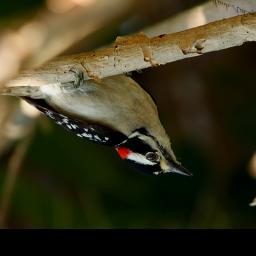Woodpecker: (0, 65, 195, 183)
